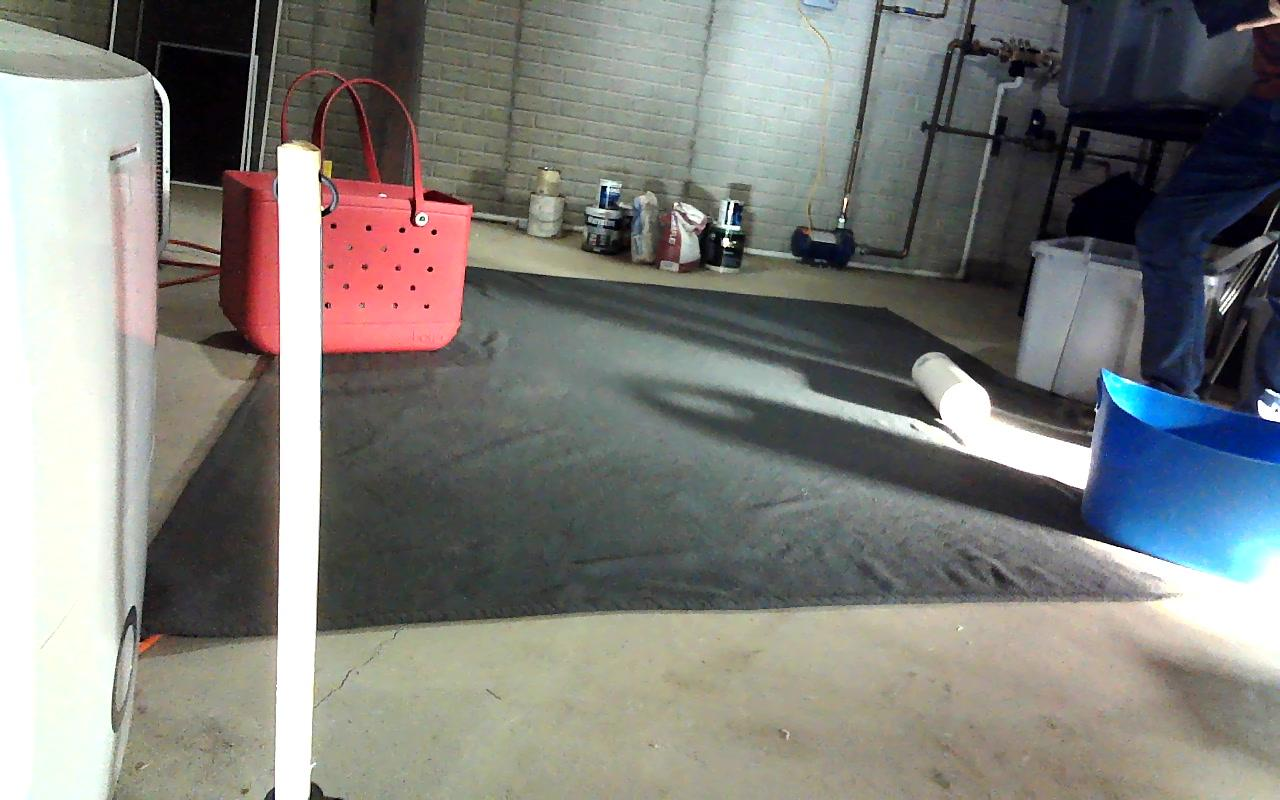coral: (911, 352, 990, 430)
